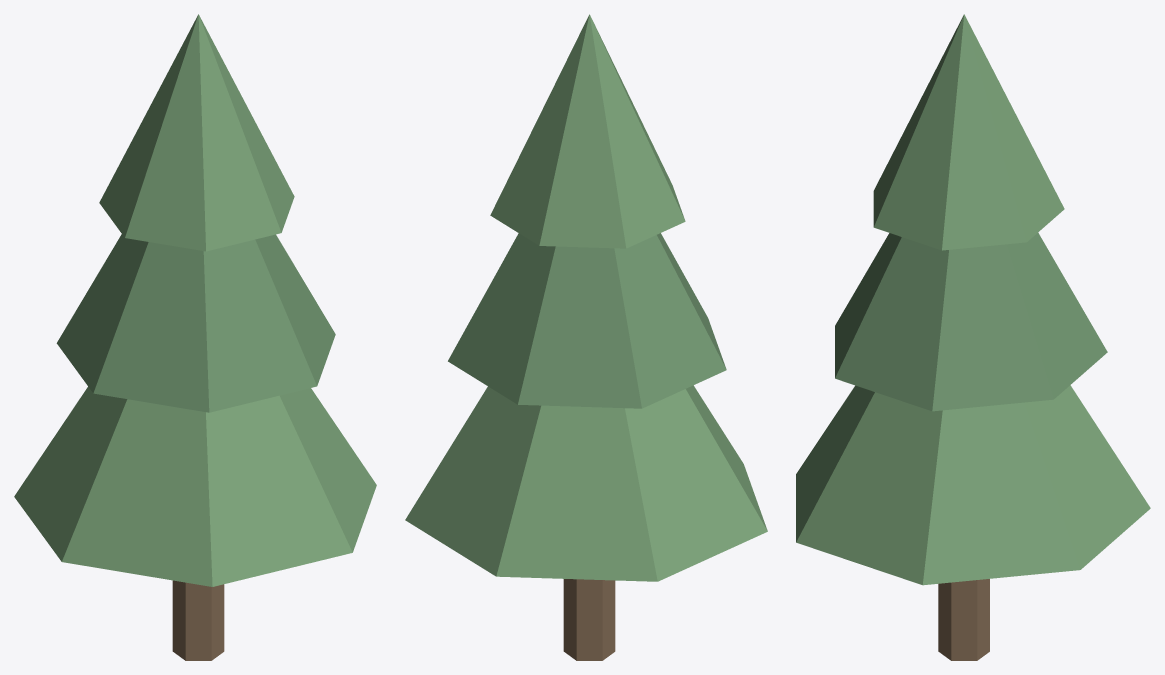
Rendered from Agac_Cam_Buyuk.glb.
The picture shows the model from 3 angles, left to right: view 1: azimuth 30°, elevation 25°; view 2: azimuth 150°, elevation 25°; view 3: azimuth 270°, elevation 25°; orthographic projection.
Visible parts, largest first — view 1: Agac_Cam_Buyuk; view 2: Agac_Cam_Buyuk; view 3: Agac_Cam_Buyuk.
Part boxes in pixels (bbox=[...]): Agac_Cam_Buyuk: bbox=[14, 14, 376, 660]; Agac_Cam_Buyuk: bbox=[405, 14, 767, 660]; Agac_Cam_Buyuk: bbox=[796, 14, 1150, 660].
Size of the model in its own units: 3.3 by 6.37 by 3.21.
